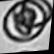correct: (0, 0, 54, 50)
